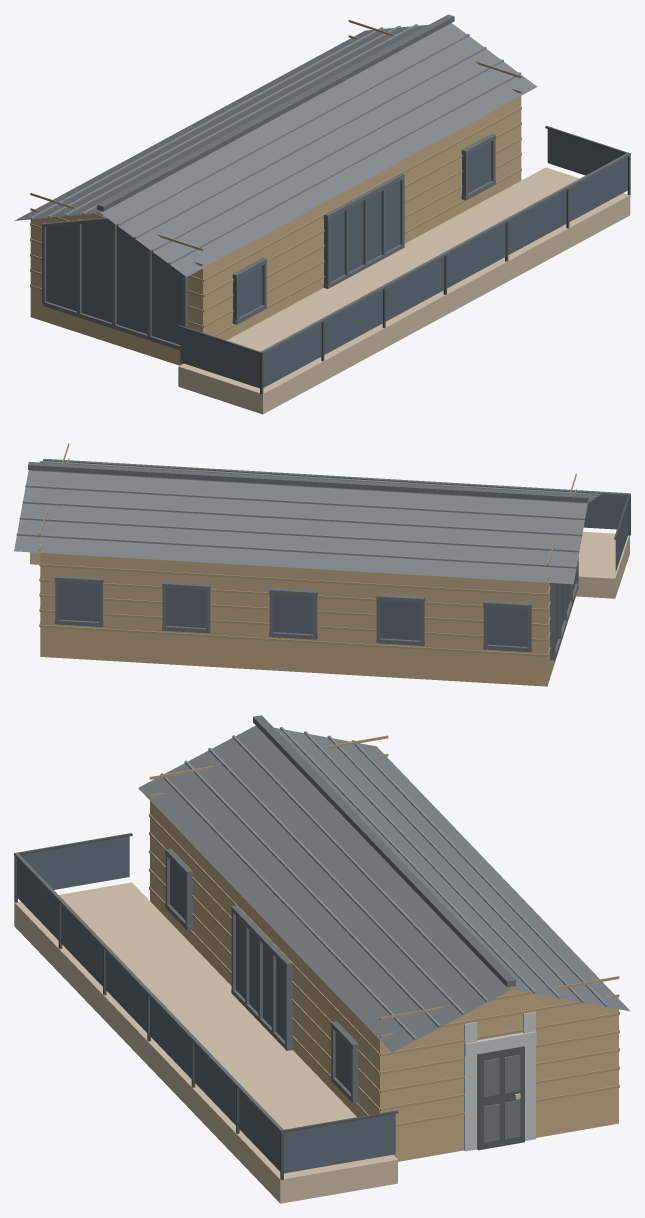
The picture shows the model from 3 angles, top to bottom: view 1: azimuth 30°, elevation 25°; view 2: azimuth 150°, elevation 25°; view 3: azimuth 270°, elevation 25°; orthographic projection. The views are drawn at different scales.
Visible parts, largest first — view 1: slate, larch, door_wood, slate_dk, window_glass_015, slate_lt, door_wood_p, window_glass_007, window_glass_003, window_glass_008, window_glass_002, window_glass_001 (+10 smaller); view 2: slate, door_wood, slate_dk, slate_lt, door_wood_p, larch, window_glass_018, window_glass_019, window_glass_020, window_glass_016, window_glass_017, window_glass_001 (+2 smaller); view 3: slate, door_wood, larch, slate_dk, slate_lt, door_wood_p, window_glass_008, stone_band, window_glass_007, door_dark_p, door_dark, pipe (+12 smaller).
Boxes of the visible parts, x1=… form: slate: x1=14, y1=23, x2=537, y2=276; larch: x1=178, y1=167, x2=630, y2=414; door_wood: x1=30, y1=96, x2=521, y2=365; slate_dk: x1=42, y1=14, x2=630, y2=354; window_glass_015: x1=46, y1=221, x2=182, y2=344; slate_lt: x1=30, y1=24, x2=521, y2=264; door_wood_p: x1=30, y1=19, x2=521, y2=336; window_glass_007: x1=180, y1=328, x2=259, y2=388; window_glass_003: x1=385, y1=256, x2=444, y2=321; window_glass_008: x1=547, y1=129, x2=624, y2=175; window_glass_002: x1=324, y1=290, x2=382, y2=354; window_glass_001: x1=263, y1=323, x2=321, y2=387; slate: x1=14, y1=470, x2=601, y2=584; door_wood: x1=40, y1=553, x2=575, y2=686; slate_dk: x1=28, y1=458, x2=629, y2=660; slate_lt: x1=16, y1=461, x2=599, y2=568; door_wood_p: x1=39, y1=443, x2=576, y2=656; larch: x1=30, y1=531, x2=629, y2=598; window_glass_018: x1=273, y1=594, x2=313, y2=634; window_glass_019: x1=380, y1=600, x2=420, y2=640; window_glass_020: x1=487, y1=607, x2=527, y2=646; window_glass_016: x1=59, y1=582, x2=98, y2=621; window_glass_017: x1=166, y1=588, x2=205, y2=627; window_glass_001: x1=583, y1=495, x2=627, y2=529; slate: x1=138, y1=725, x2=630, y2=1052; door_wood: x1=150, y1=764, x2=618, y2=1161; larch: x1=14, y1=882, x2=397, y2=1203; slate_dk: x1=14, y1=715, x2=515, y2=1132; slate_lt: x1=160, y1=727, x2=608, y2=1040; door_wood_p: x1=149, y1=735, x2=619, y2=1126; window_glass_008: x1=284, y1=1113, x2=395, y2=1173; stone_band: x1=464, y1=1011, x2=536, y2=1151; window_glass_007: x1=20, y1=836, x2=129, y2=889; door_dark_p: x1=483, y1=1054, x2=520, y2=1142; door_dark: x1=477, y1=1046, x2=524, y2=1150; pipe: x1=14, y1=833, x2=398, y2=1180.
Size of the model in its own units: 14.92 by 3.67 by 11.67.
